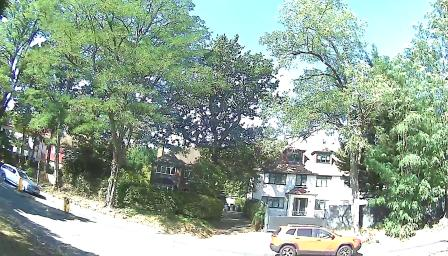Cars: (264, 221, 378, 256), (3, 158, 42, 192)
